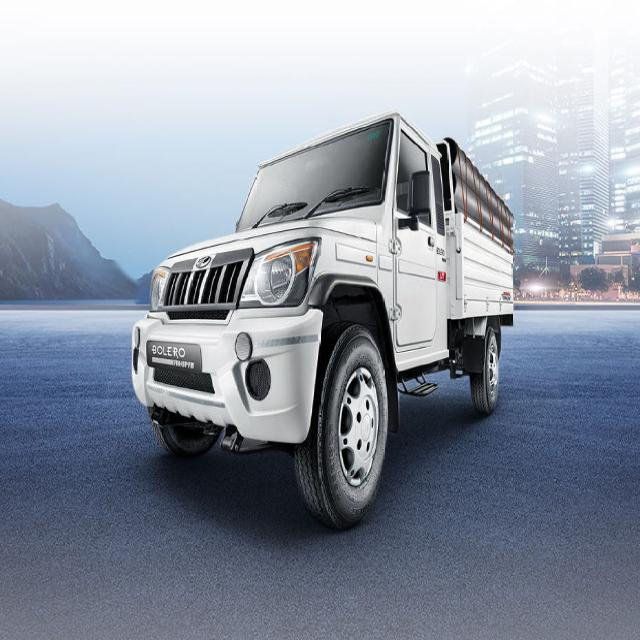light_vehicle: (131, 112, 523, 526)
